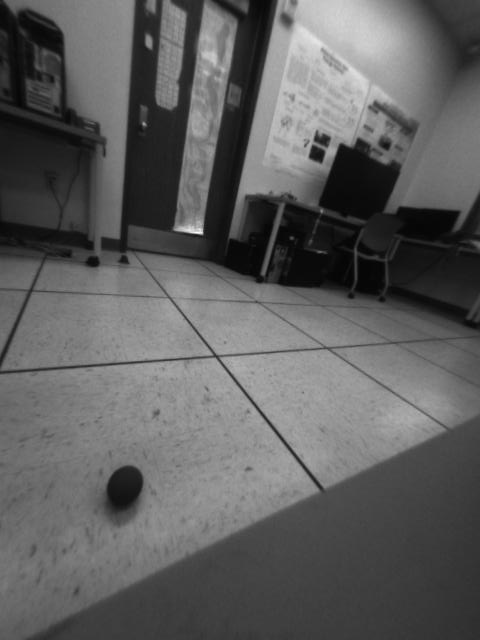dogtoy: (98, 456, 148, 514)
